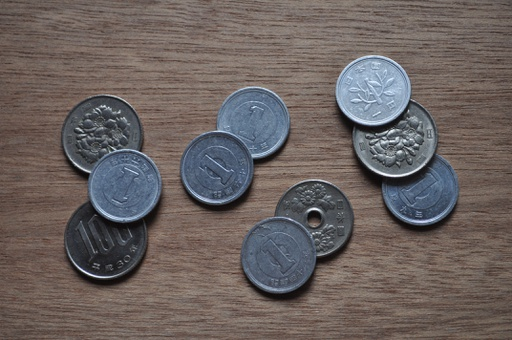100yen: (64, 194, 147, 280), (352, 96, 438, 179), (60, 94, 143, 176)
1yen: (381, 149, 458, 227), (240, 216, 316, 294), (180, 130, 254, 207), (217, 86, 290, 161), (336, 55, 411, 127), (88, 149, 161, 222)
50yen: (274, 179, 354, 259)
